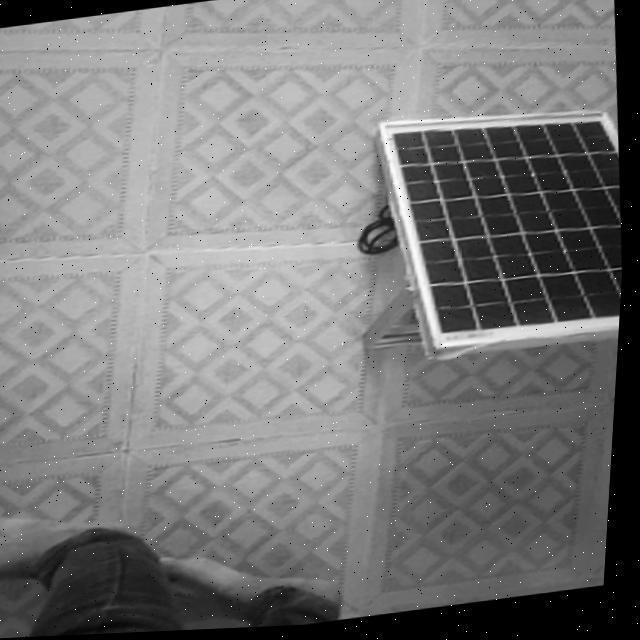Normal Solar Panel: (368, 94, 634, 368)
